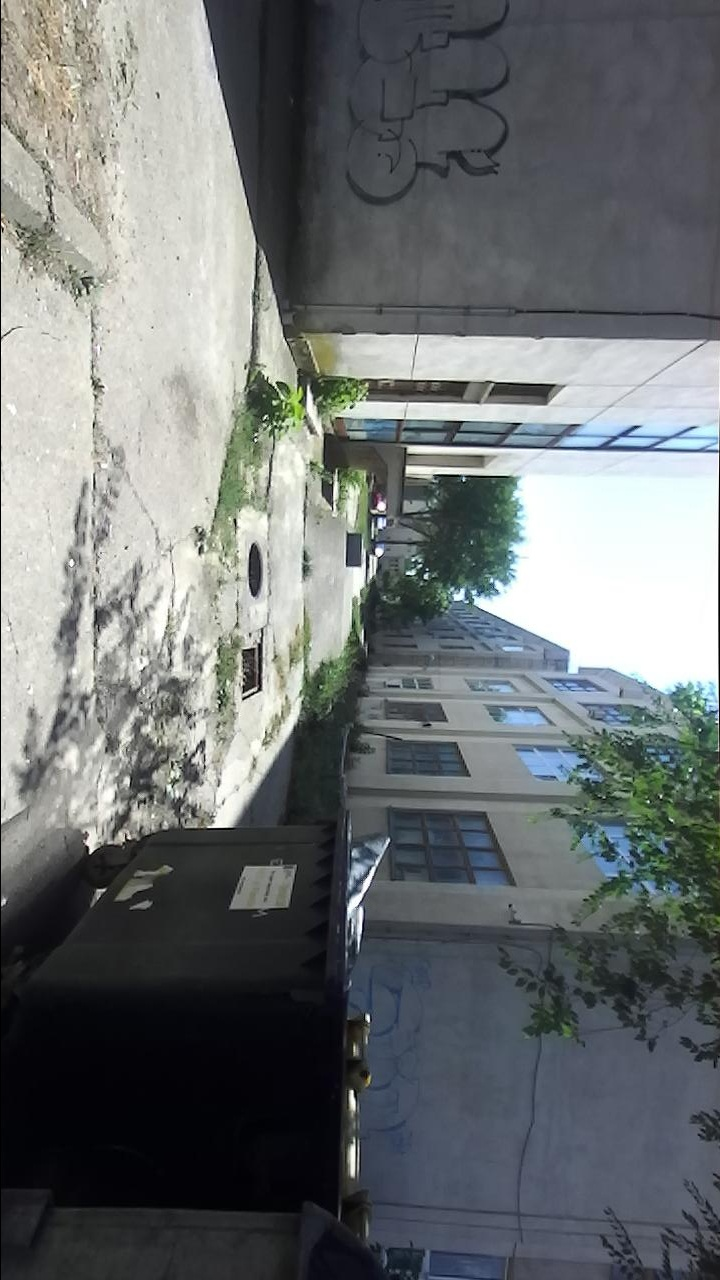drain: (236, 643, 266, 704), (245, 541, 270, 602)
